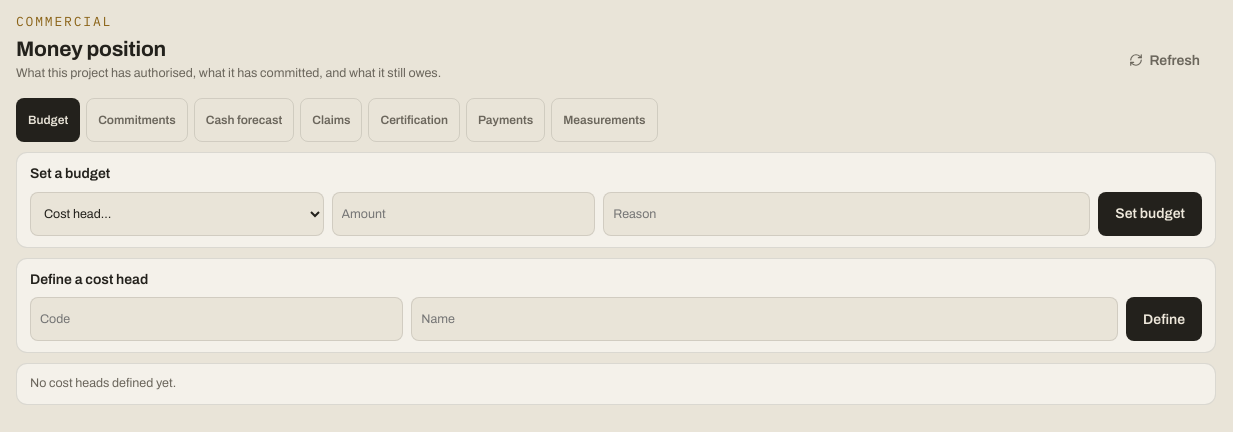
Test: Task 7B-ii (§M) — the rendered claim tabs never dereference an absent claim › S1: a held LIST response cannot regress a bill the claim already reports certified
Click the button with test id "commercial-tab-claims" at (331, 120), box [300, 98, 362, 142]
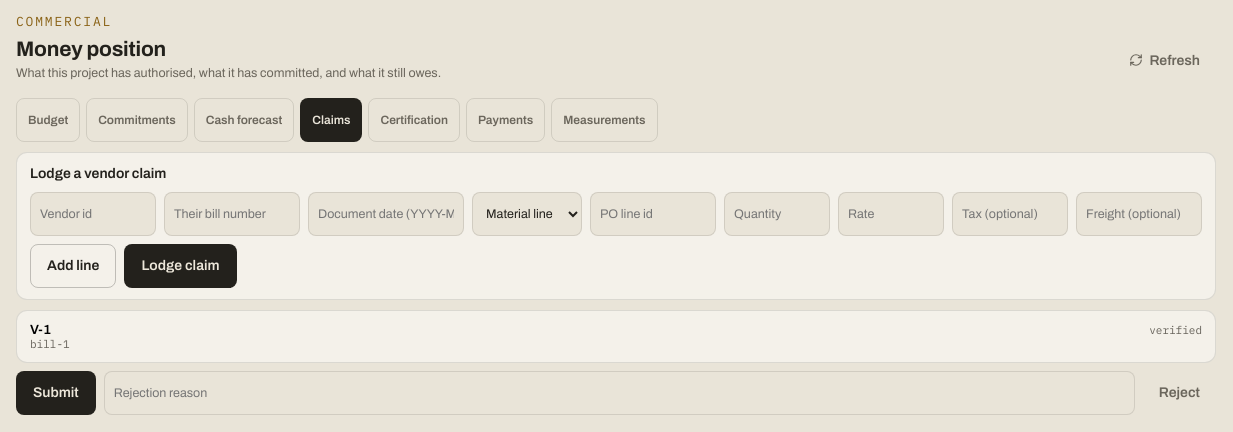
Click the button with test id "commercial-claim-row-bill-1" at (1176, 330), box [16, 310, 1216, 363]
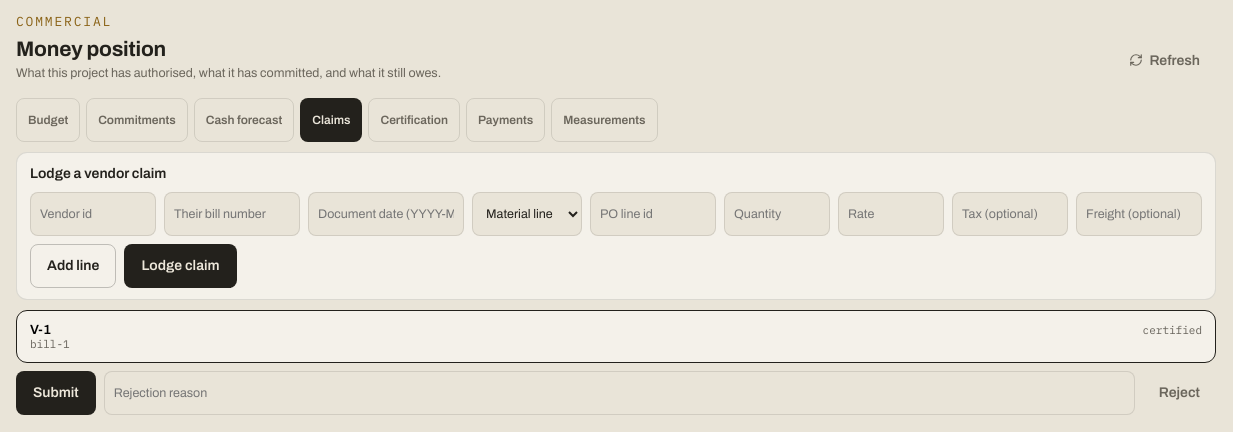
Expected: the text with test id "commercial-claim-status-bill-1" reads "certified", [1143, 323, 1202, 337]
